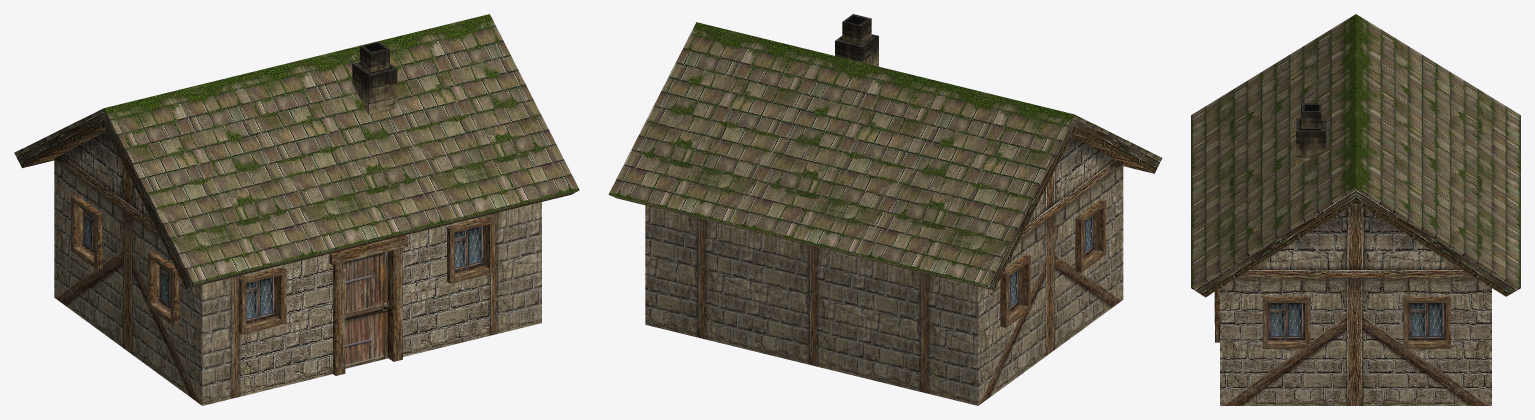
The model's file is rd_house4.glb.
The picture shows the model from 3 angles, left to right: view 1: azimuth 30°, elevation 25°; view 2: azimuth 150°, elevation 25°; view 3: azimuth 270°, elevation 25°; orthographic projection. The views are drawn at different scales.
Parts seen in each view (by area): view 1: rd_house4-col; view 2: rd_house4-col; view 3: rd_house4-col.
Part boxes in pixels (x1,y1,x2,y2): rd_house4-col: (14,14,579,405); rd_house4-col: (608,14,1162,405); rd_house4-col: (1191,14,1520,405).
Size of the model in its own units: 7.76 by 5.14 by 6.26.
6 materials, 6 textured.
